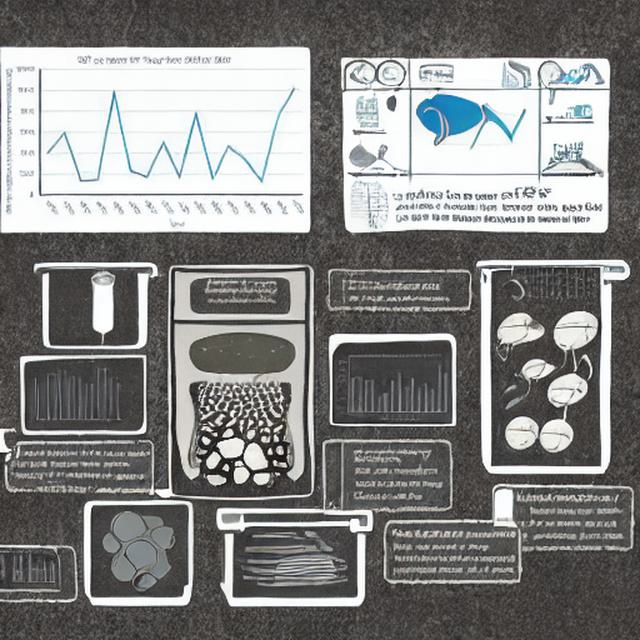Graph: (1, 50, 307, 230), (333, 352, 452, 424)
